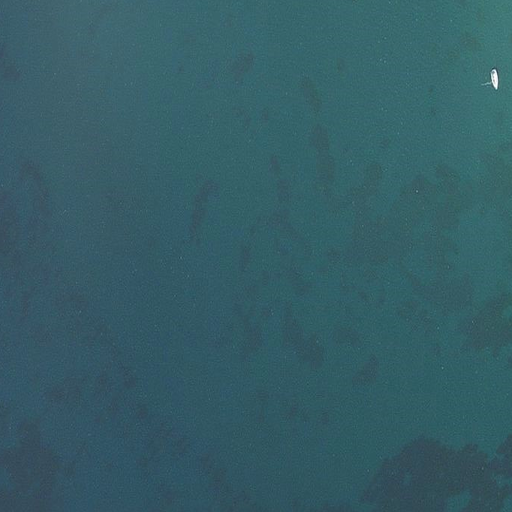ship: (489, 67, 501, 90)
